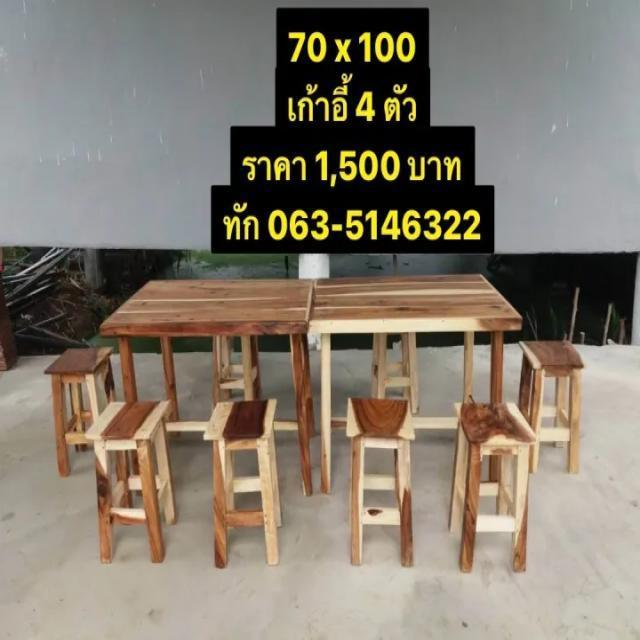table: (317, 262, 525, 352), (110, 260, 308, 354)
